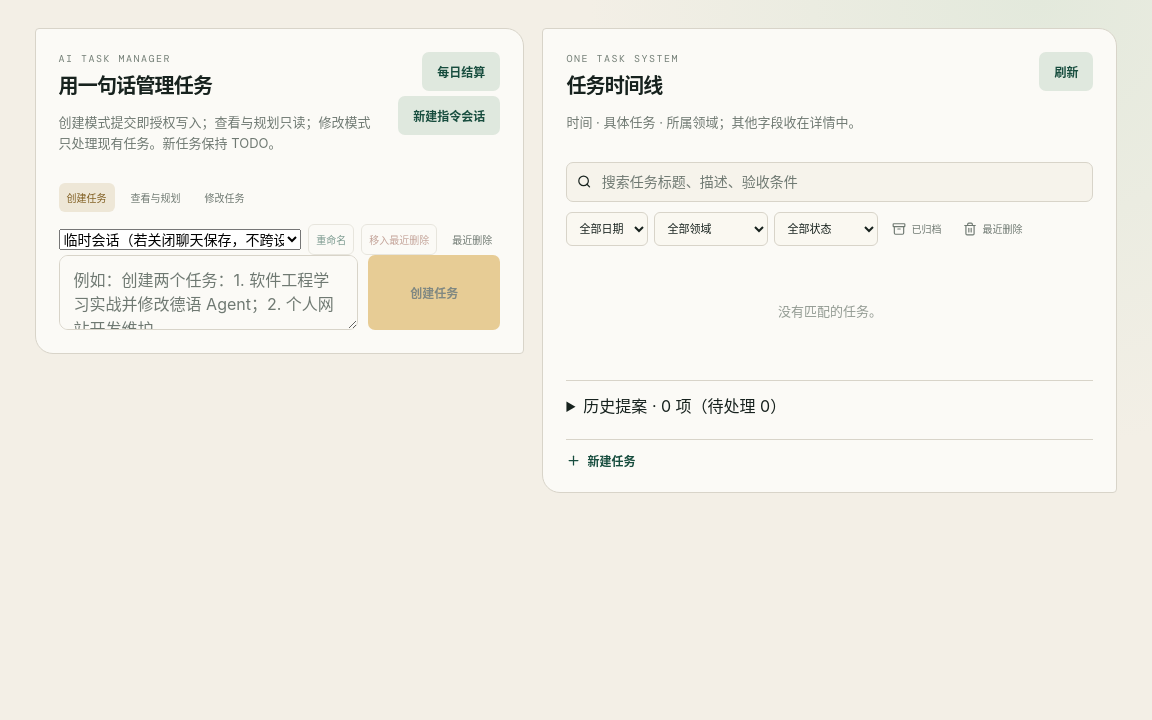
Test: AI-first task manager workspace › assigns a new operation ID to every new submission and resolves failed operation before safe retry
Type "创建一项测试任务" into the text box named "AI 任务管理员输入". click: (208, 292)
box: [59, 255, 358, 330]
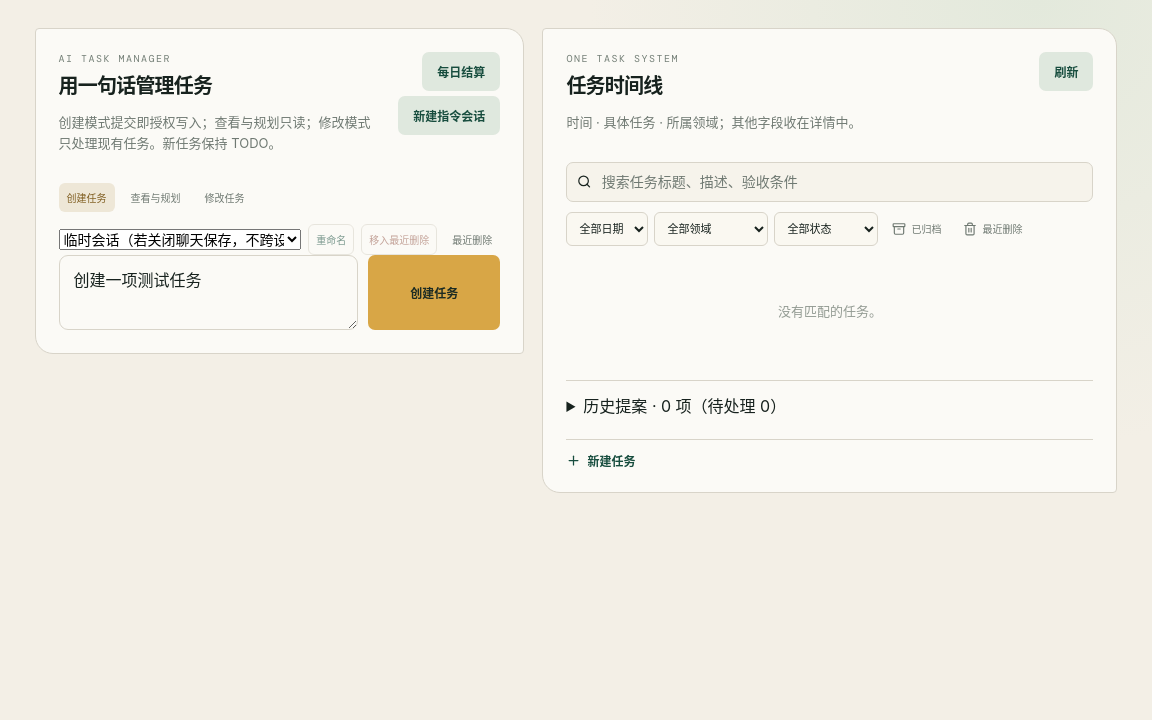
Click the 2nd button "创建任务". click: (434, 292)
box: [368, 255, 500, 330]
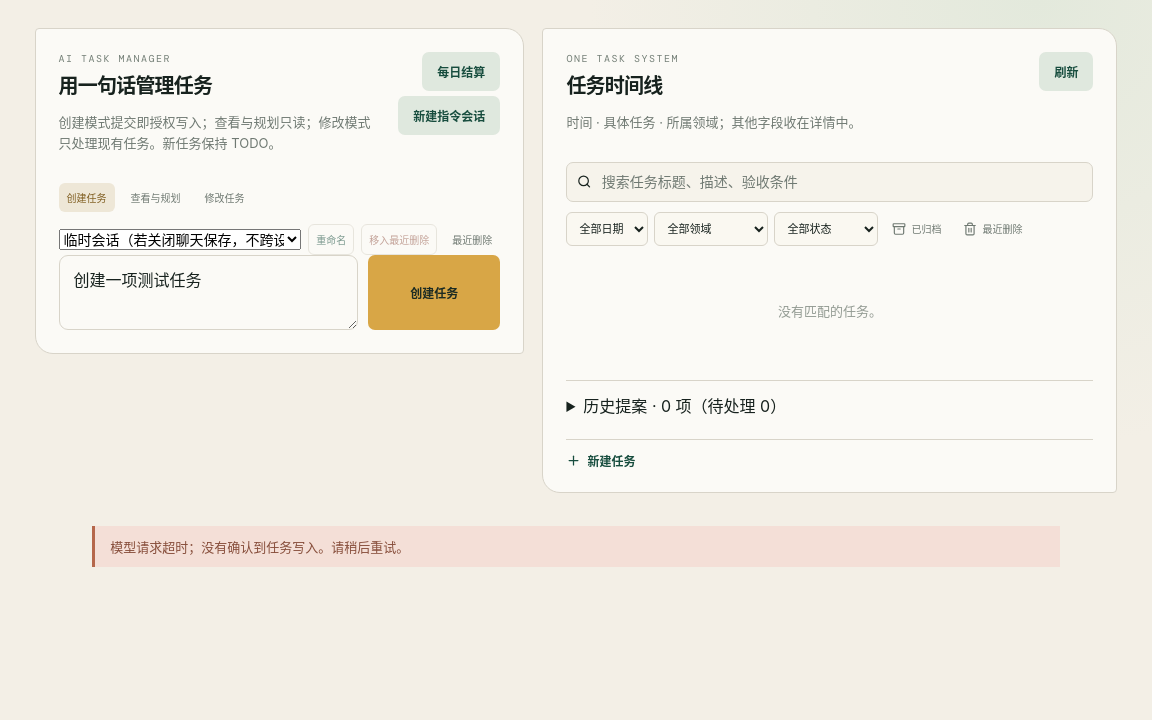
Now the text "模型请求超时；没有确认到任务写入。请稍后重试。" is shown, box [92, 526, 1060, 567]
Click the 2nd button "创建任务". click: (434, 292)
box: [368, 255, 500, 330]
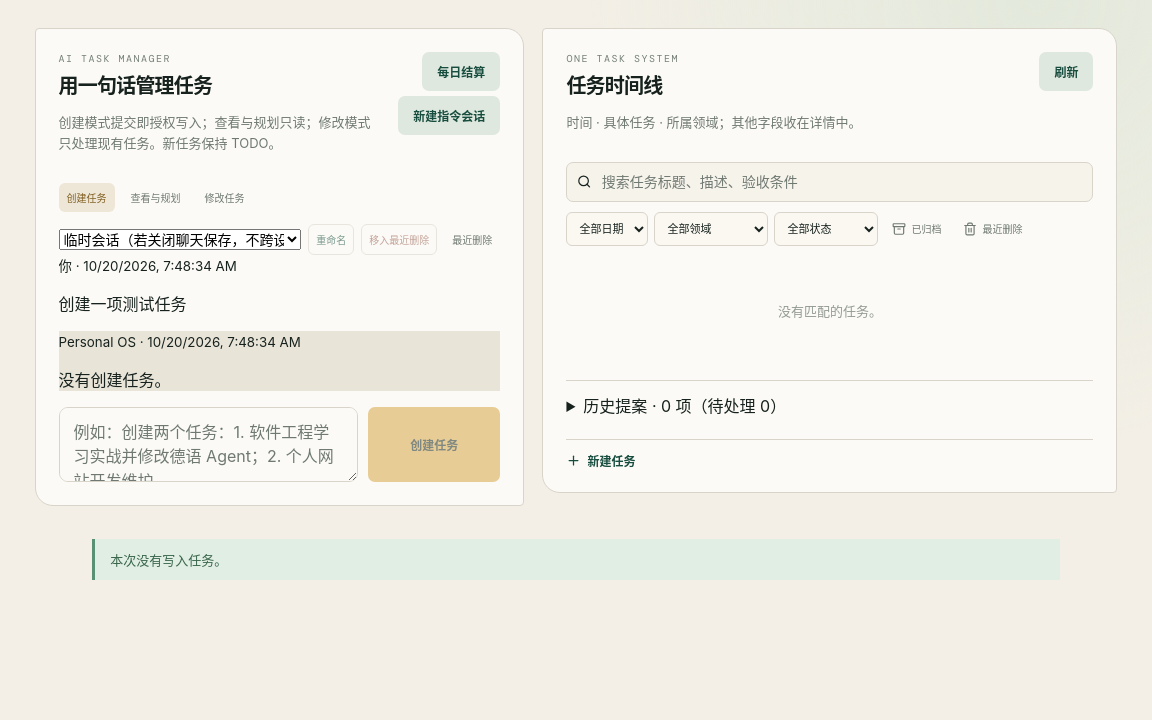
Now the text "本次没有写入任务。" is shown, box [92, 539, 1060, 580]
